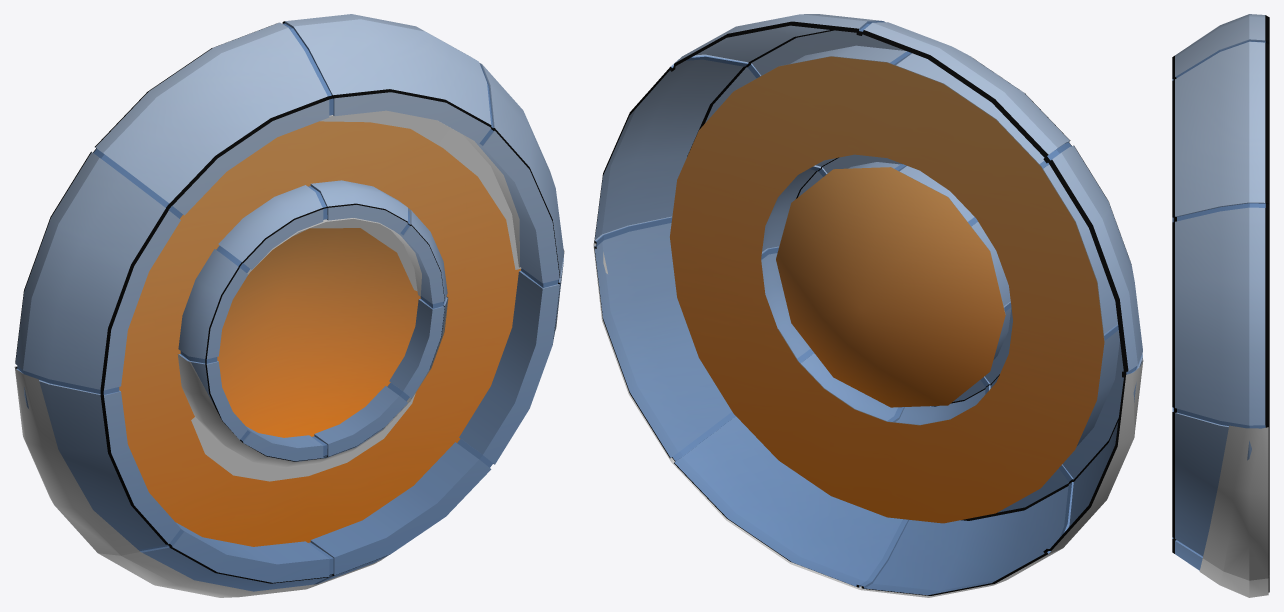
File: Rooms_Paradise_SciFi_Wall_Circle_Art.fbx
3 renders of one model, left to right at view 1: azimuth 30°, elevation 25°; view 2: azimuth 150°, elevation 25°; view 3: azimuth 270°, elevation 25°, orthographic. The views are drawn at different scales.
Visible parts, largest first — view 1: Rooms_Paradise_SciFi_Wall_Circle_Art, Rooms_Paradise_SciFi_Wall_Circle_Shadows; view 2: Rooms_Paradise_SciFi_Wall_Circle_Art, Rooms_Paradise_SciFi_Wall_Circle_Shadows; view 3: Rooms_Paradise_SciFi_Wall_Circle_Art, Rooms_Paradise_SciFi_Wall_Circle_Shadows.
Boxes of the visible parts, x1,y1,x2,y2 form: Rooms_Paradise_SciFi_Wall_Circle_Art: (15, 14, 563, 591); Rooms_Paradise_SciFi_Wall_Circle_Shadows: (14, 110, 564, 597); Rooms_Paradise_SciFi_Wall_Circle_Art: (594, 14, 1142, 595); Rooms_Paradise_SciFi_Wall_Circle_Shadows: (593, 56, 1143, 597); Rooms_Paradise_SciFi_Wall_Circle_Art: (1172, 14, 1269, 592); Rooms_Paradise_SciFi_Wall_Circle_Shadows: (1199, 425, 1268, 597).
Size of the model in its own units: 182 by 181 by 30.25.
